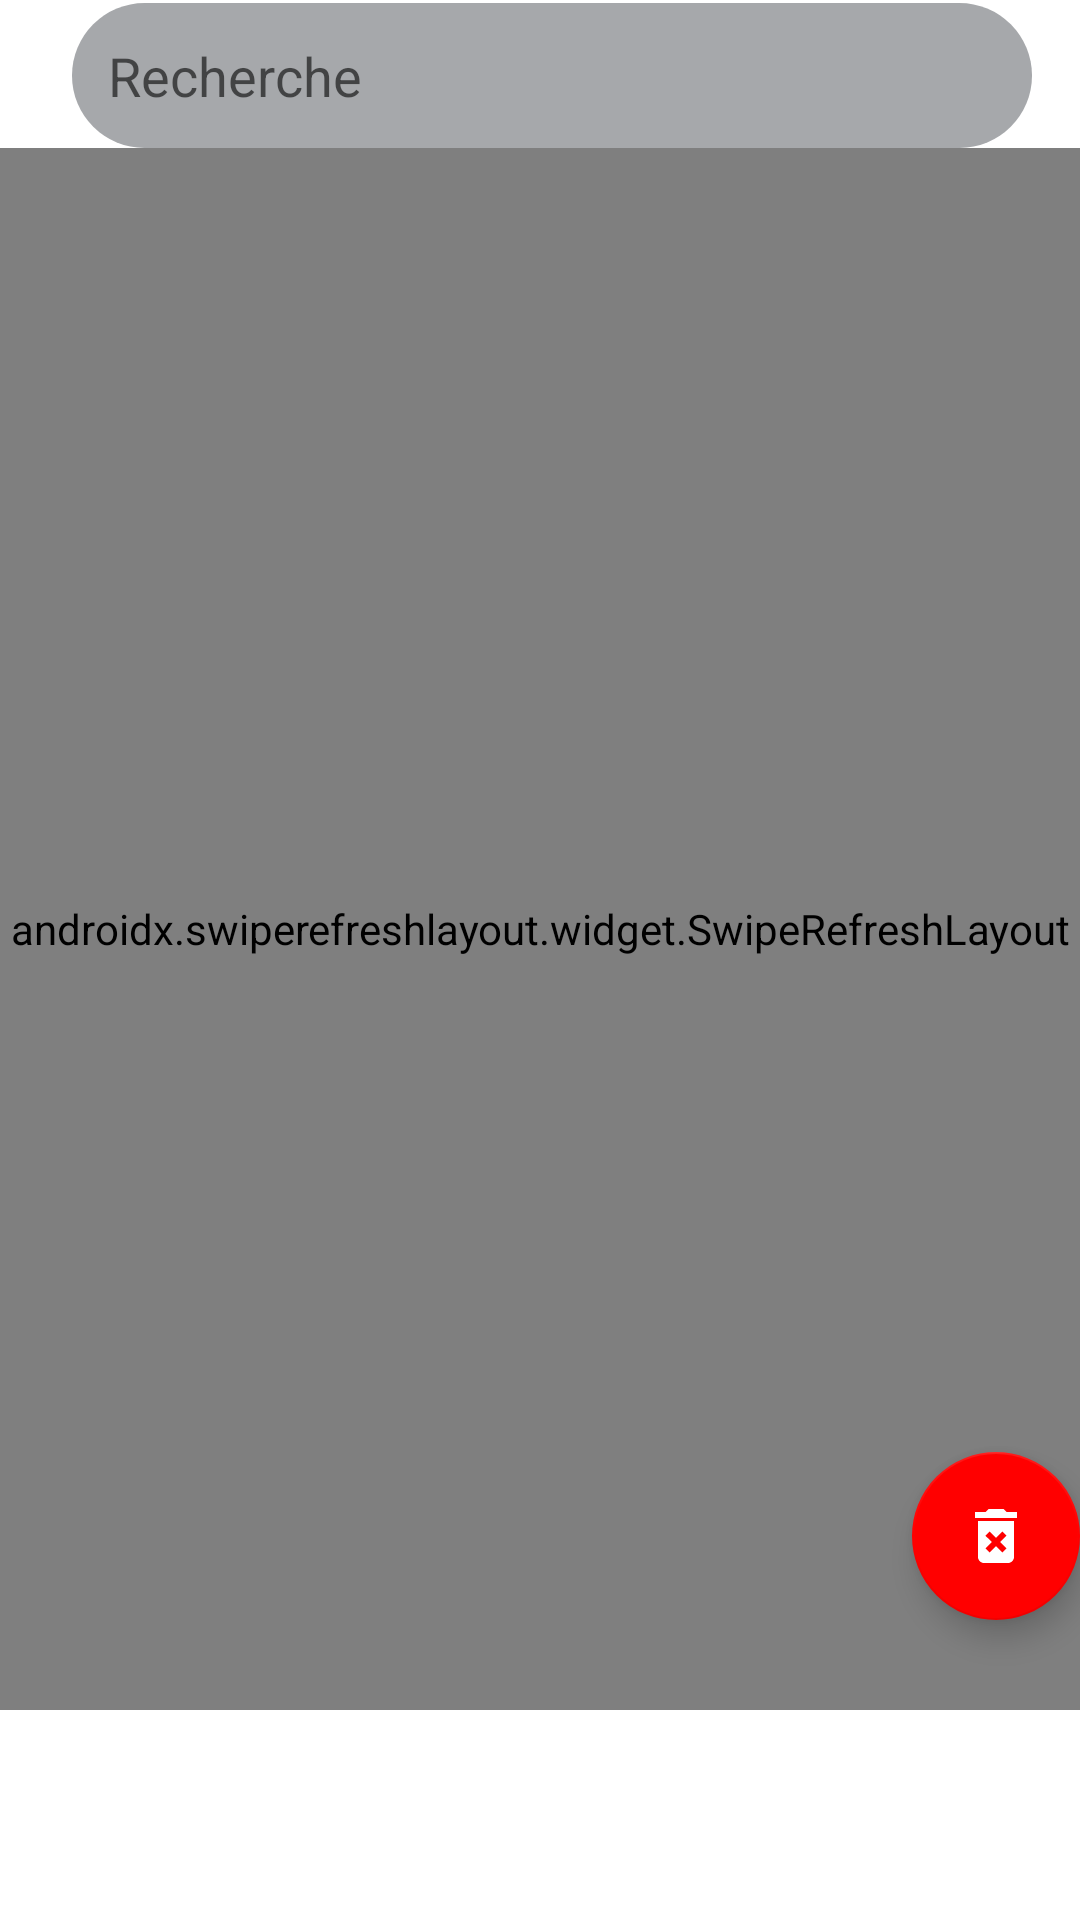

Icons on this 1080 x 1920 Android screen, each with the point to tap as [x,y]:
delete forever: [996,1536]
